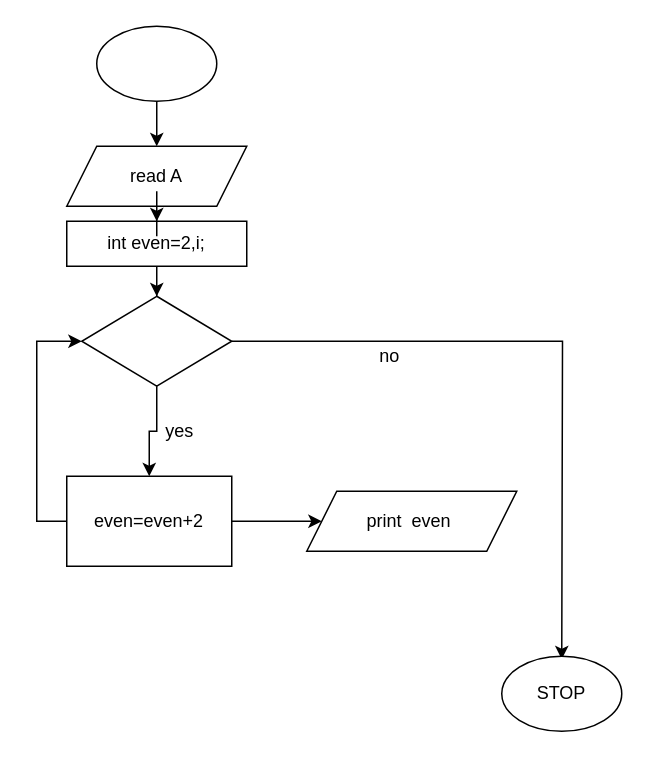
This 648x758 diagram has some shape labels left out. Each missing label, with the centre of its shape:
if(i=1;i<=A;i++): the point at 156,340
START: the point at 156,63
